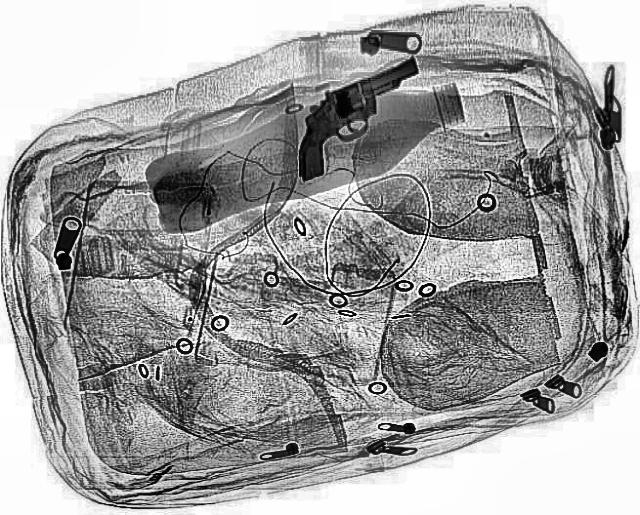Gun: (257, 54, 458, 184)
